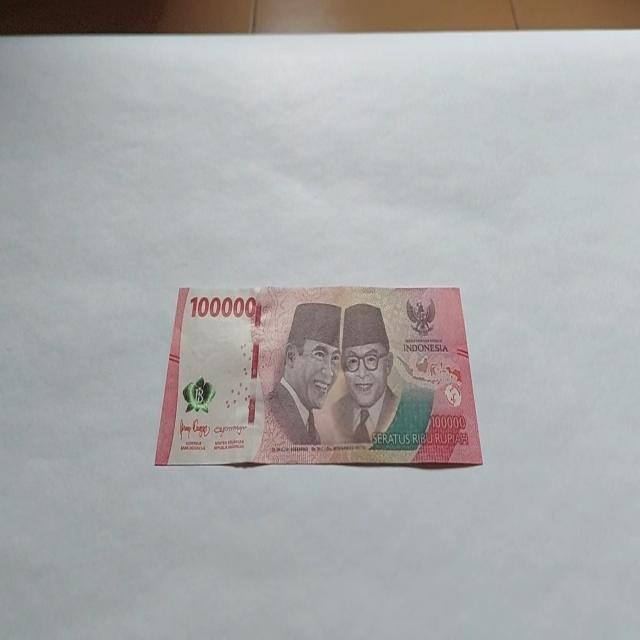seratus ribu rupiah: (154, 282, 483, 470)
